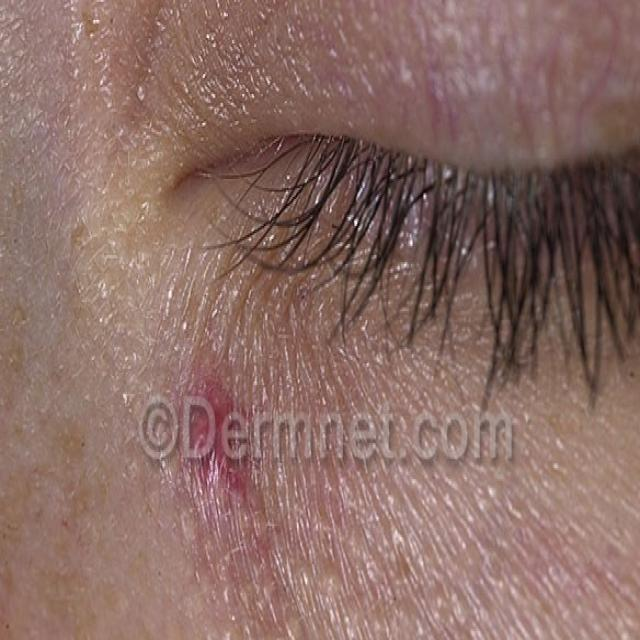Vascular Tumors: (142, 337, 279, 518)
